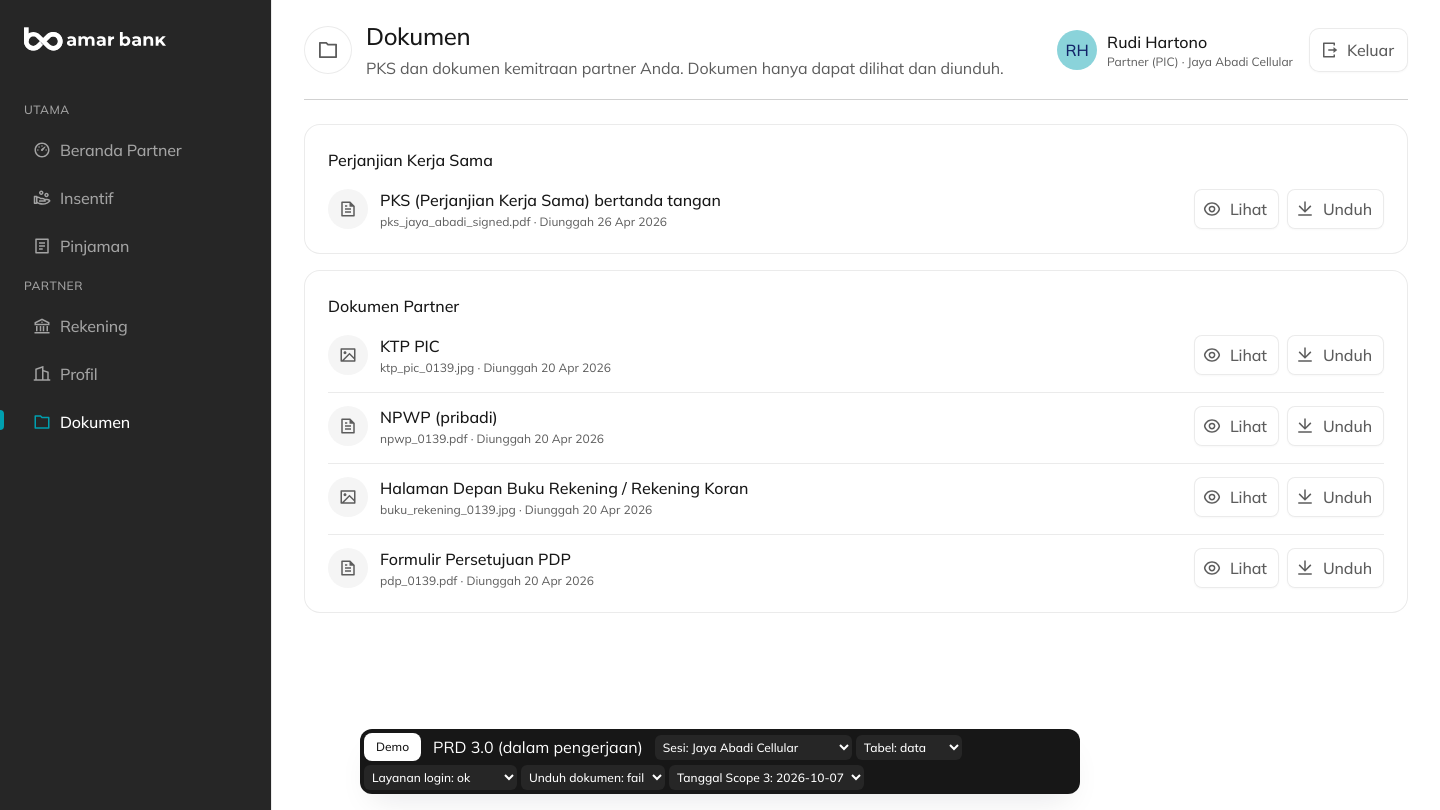
Test: PDB-09 Dokumen › Unduh gagal → toast "Gagal mengunduh dokumen. Coba lagi."
What coordinates should you click on to do the following:
click the button "Unduh" in the row of "26 Apr 2026"
I would click on:
 (1335, 209)
Its box is [1287,189,1384,229].
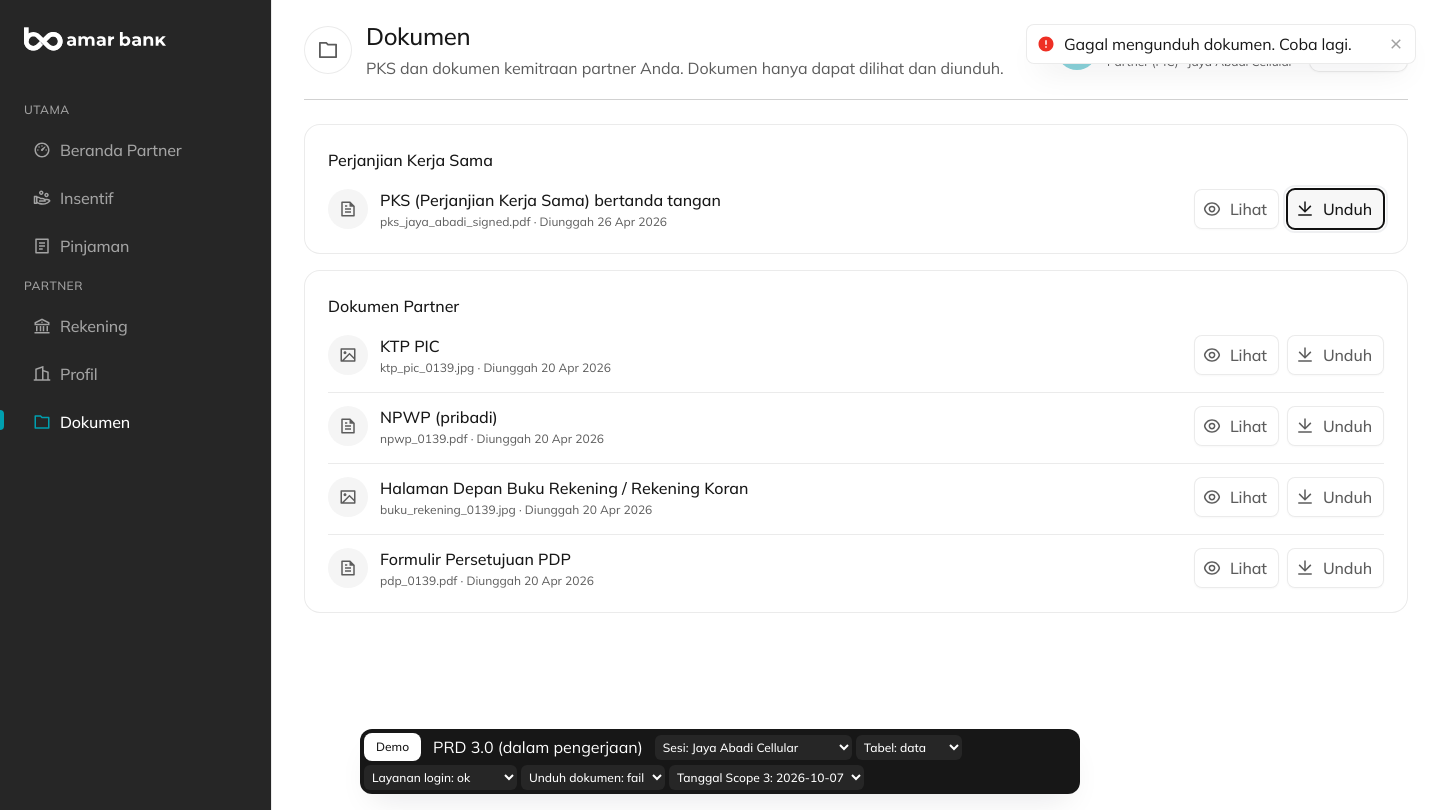
expect the text "Gagal mengunduh dokumen. Coba lagi." is shown: met, box [1064,32,1378,56]
